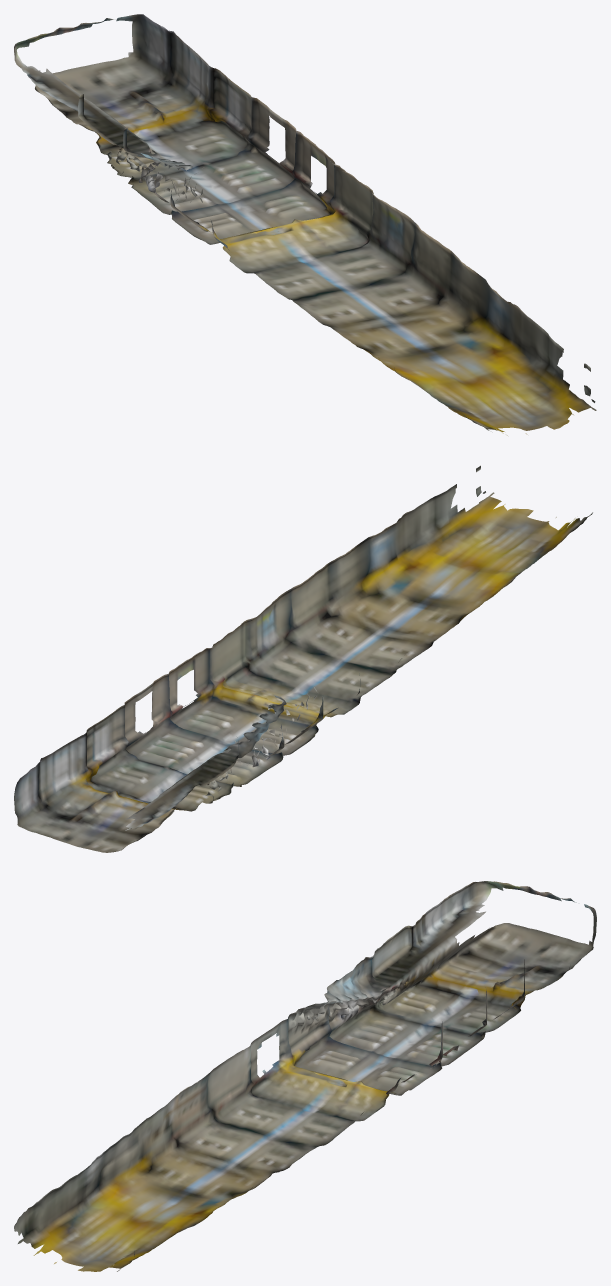
The model's file is 2-world.glb.
3 renders of one model, top to bottom at view 1: azimuth 30°, elevation 25°; view 2: azimuth 150°, elevation 25°; view 3: azimuth 330°, elevation 25°, orthographic. The views are drawn at different scales.
Parts seen in each view (by area): view 1: world; view 2: world; view 3: world.
Part boxes in pixels (x1,y1,x2,y2): world: (14, 14, 596, 435); world: (14, 465, 592, 852); world: (14, 881, 596, 1271).
Bounding box in the file's own units: 9.5 × 4.27 × 57.61.
